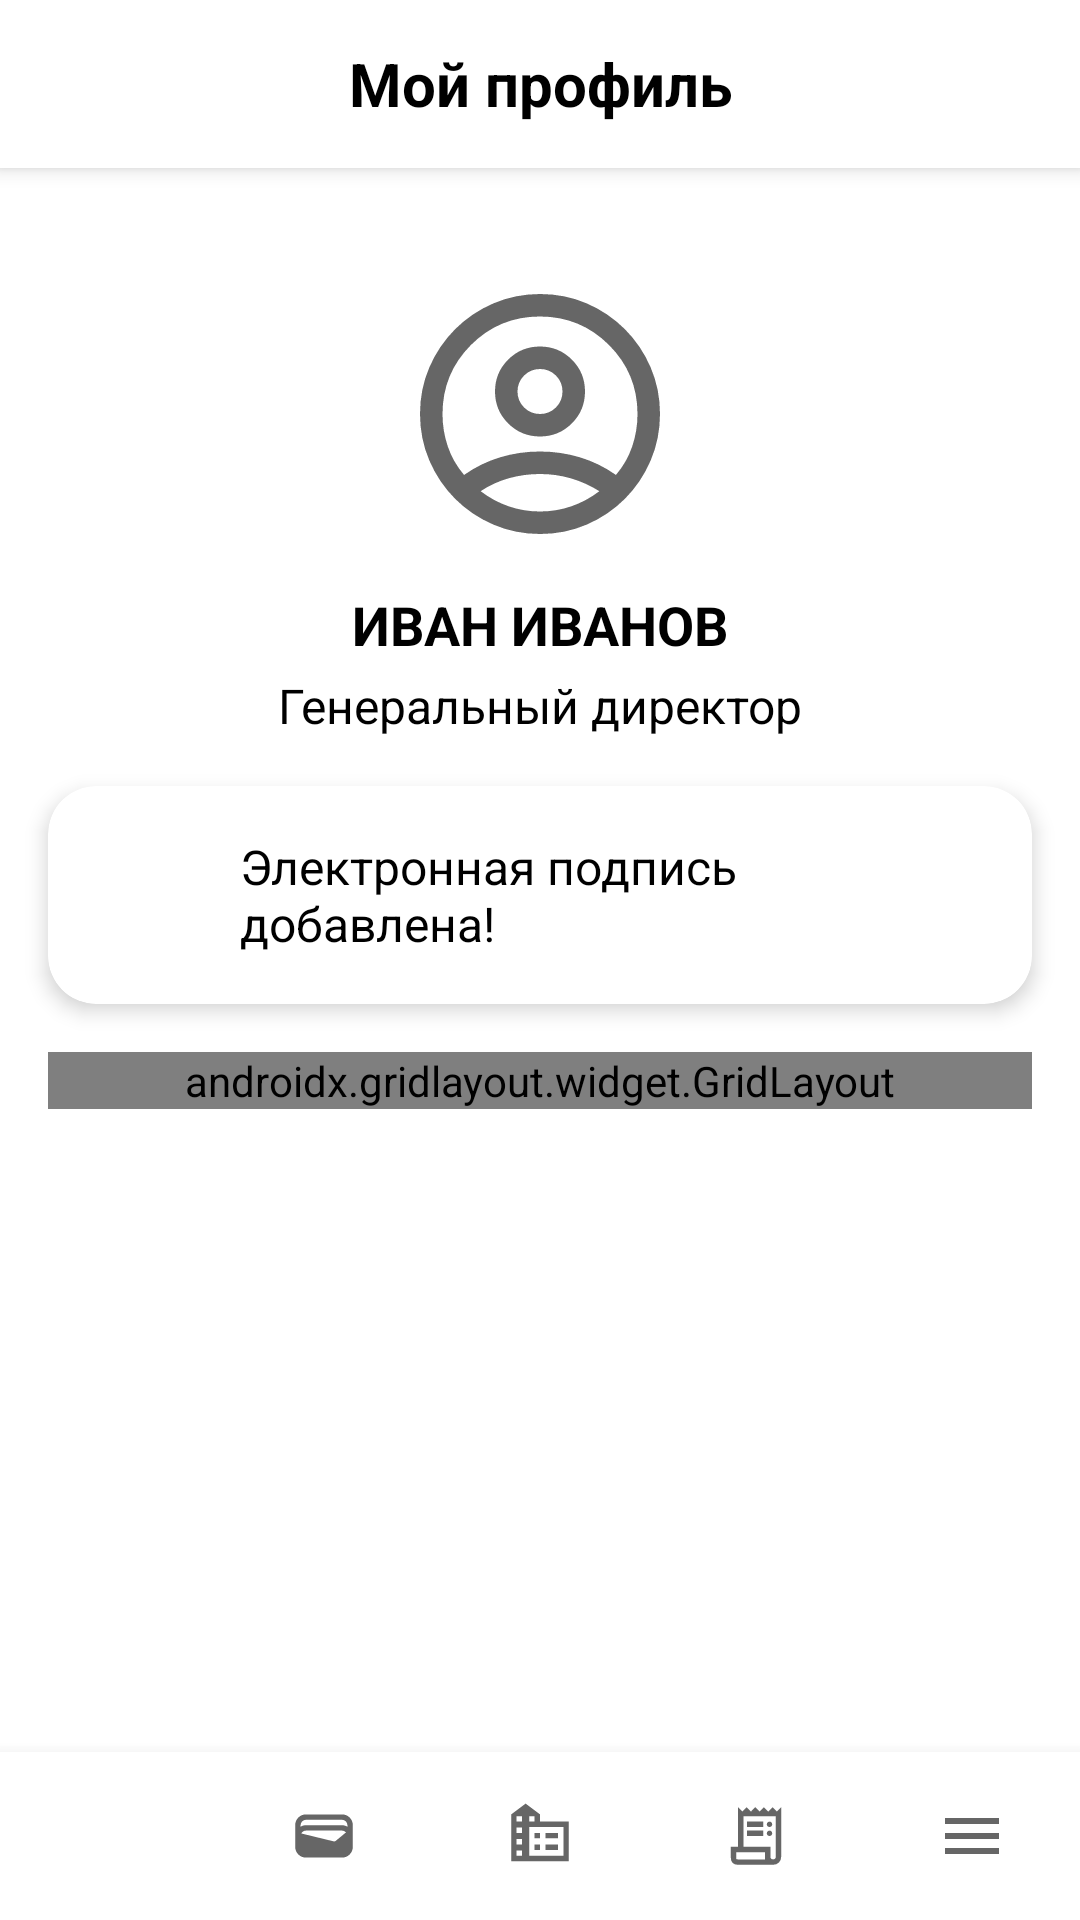

Icons on this 1080*1920 Android screen, each with the point to tap as (x,y):
account: (540,414)
